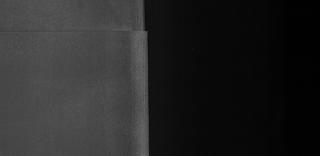welding line: (1, 25, 159, 36)
